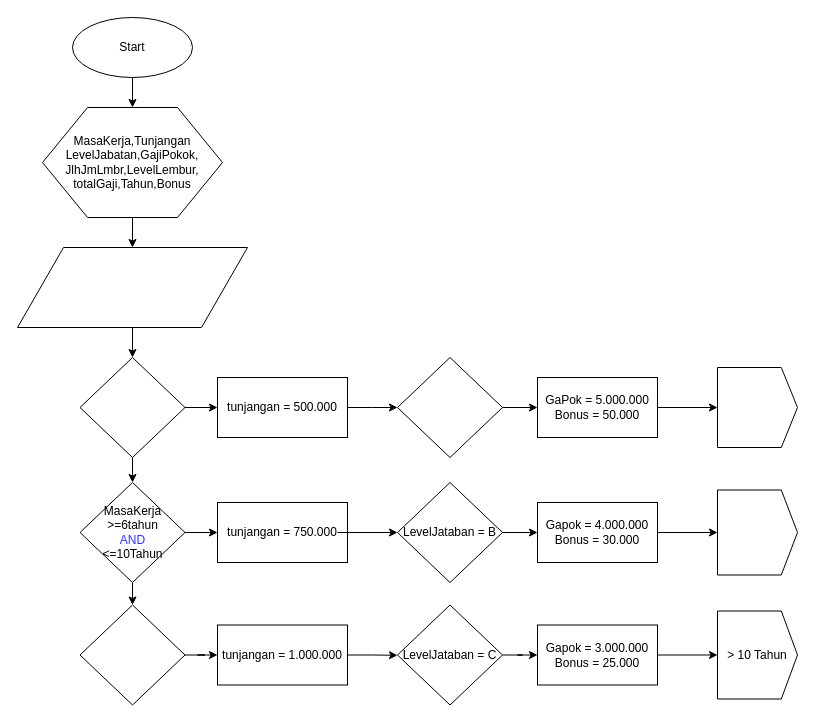
The diagram is 815 pixels wide and 723 high, and some of its shapes have lost their labels. Here are the shapes that lost their labels. From the top down, the centre of each, then its label:
At point (132, 287): "Input MasaKerja,LevelJabatan, JamLembur".
At point (132, 407): "MasaKerja >=1tahun AND <=5Tahun".
At point (449, 407): "LevelJataban = A".
At point (757, 407): "1 - 5 Tahun".
At point (757, 532): "6 - 10 Tahun".
At point (132, 654): "MasaKerja >10Tahun".
